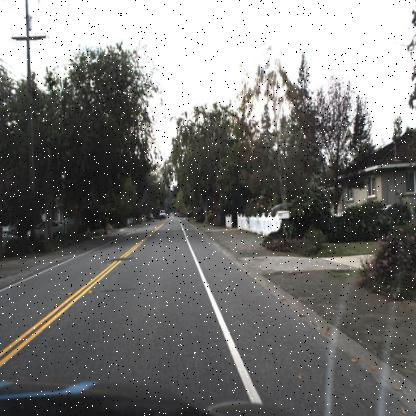car: (25, 217, 66, 243)
